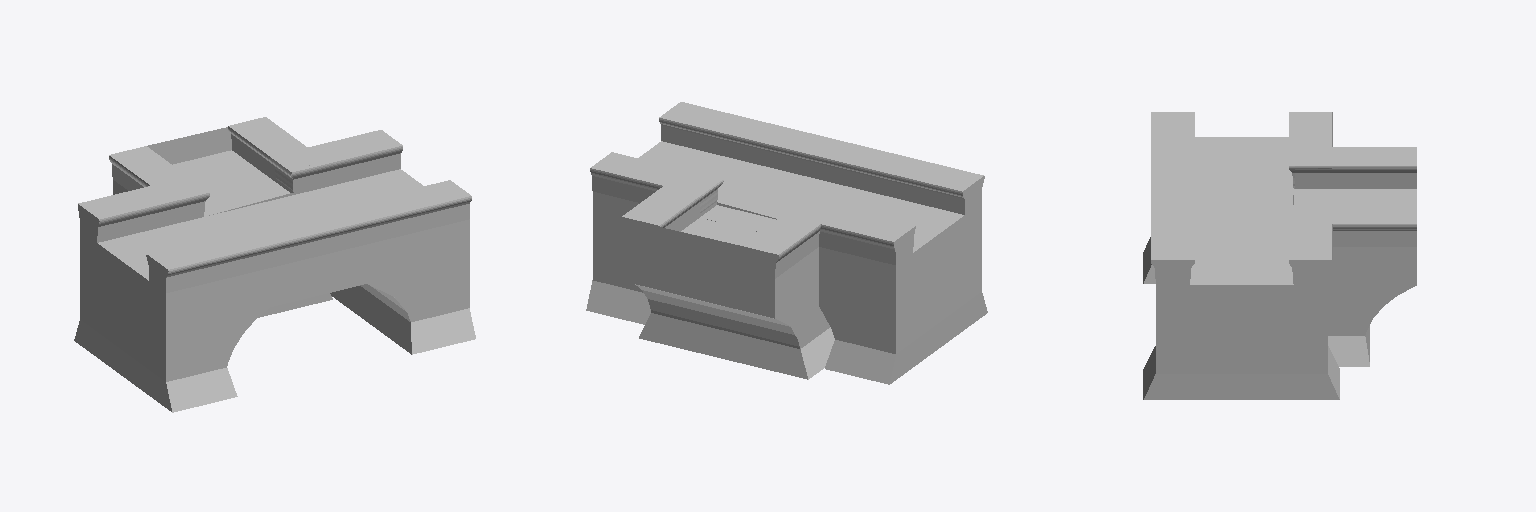
Rendered from pieceL.2.obj.
3 renders of one model, left to right at view 1: azimuth 30°, elevation 25°; view 2: azimuth 150°, elevation 25°; view 3: azimuth 270°, elevation 25°, orthographic.
Visible parts, largest first — view 1: Plane.005; view 2: Plane.005; view 3: Plane.005.
Part boxes in pixels (bbox=[...]): Plane.005: bbox=[74, 117, 475, 412]; Plane.005: bbox=[586, 102, 987, 384]; Plane.005: bbox=[1143, 112, 1416, 399].
Bounding box in the file's own units: 4.12 × 1.82 × 3.21.